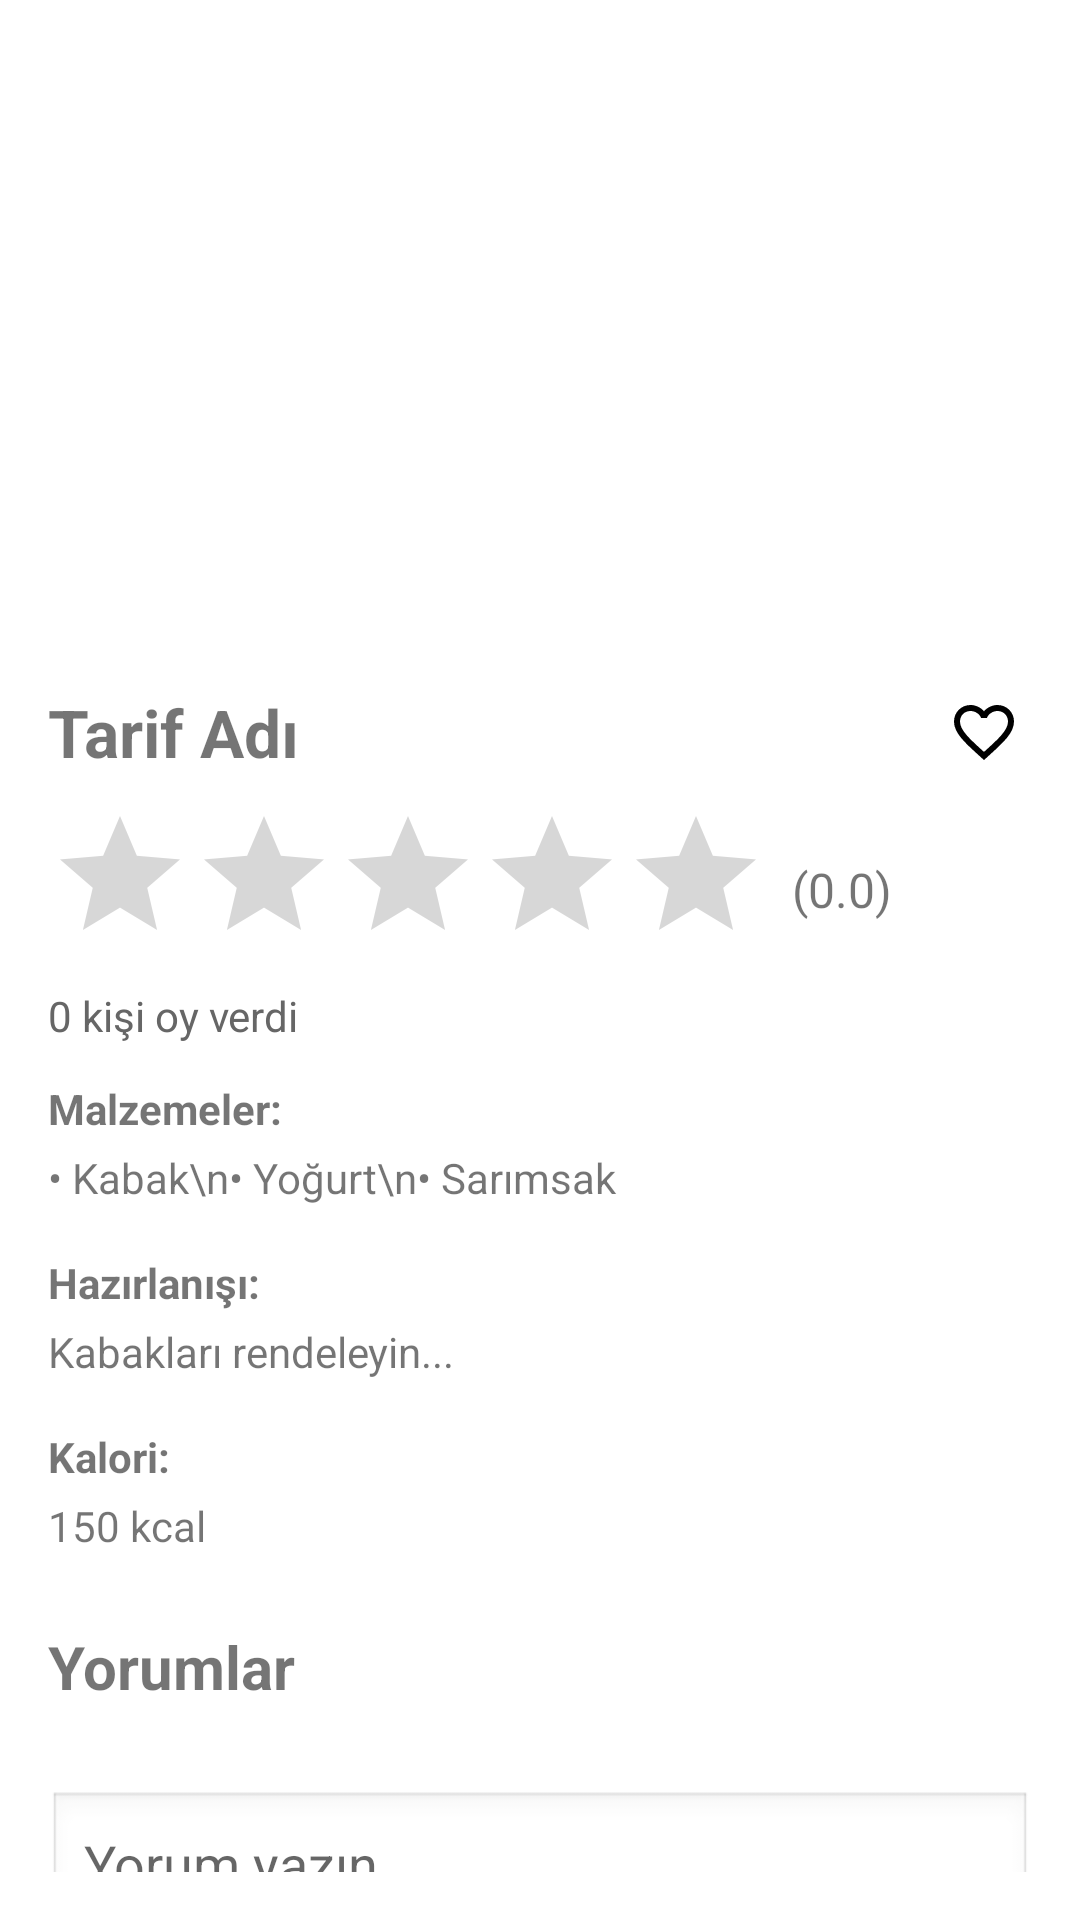

Screen size 1080x1920. Icon name, then its center in pixels as [x,y]:
favorite border: [984,732]
